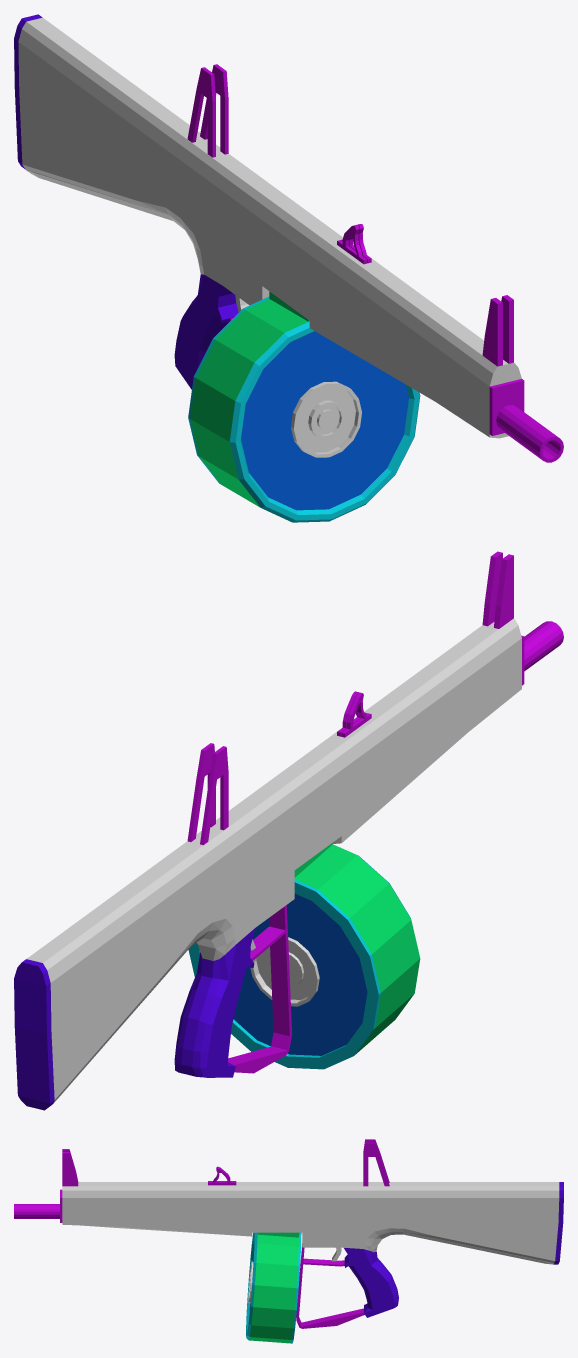
3 views of the same model, one above another, from view 1: azimuth 30°, elevation 25°; view 2: azimuth 150°, elevation 25°; view 3: azimuth 270°, elevation 25° (orthographic). The views are drawn at different scales.
Visible parts, largest first — view 1: AA-12; view 2: AA-12; view 3: AA-12.
Boxes of the visible parts, x1,y1,x2,y2 form: AA-12: (14,14,563,522); AA-12: (14,551,563,1110); AA-12: (14,1139,563,1343).
Size of the model in its own units: 11.42 by 54.14 by 21.38.
